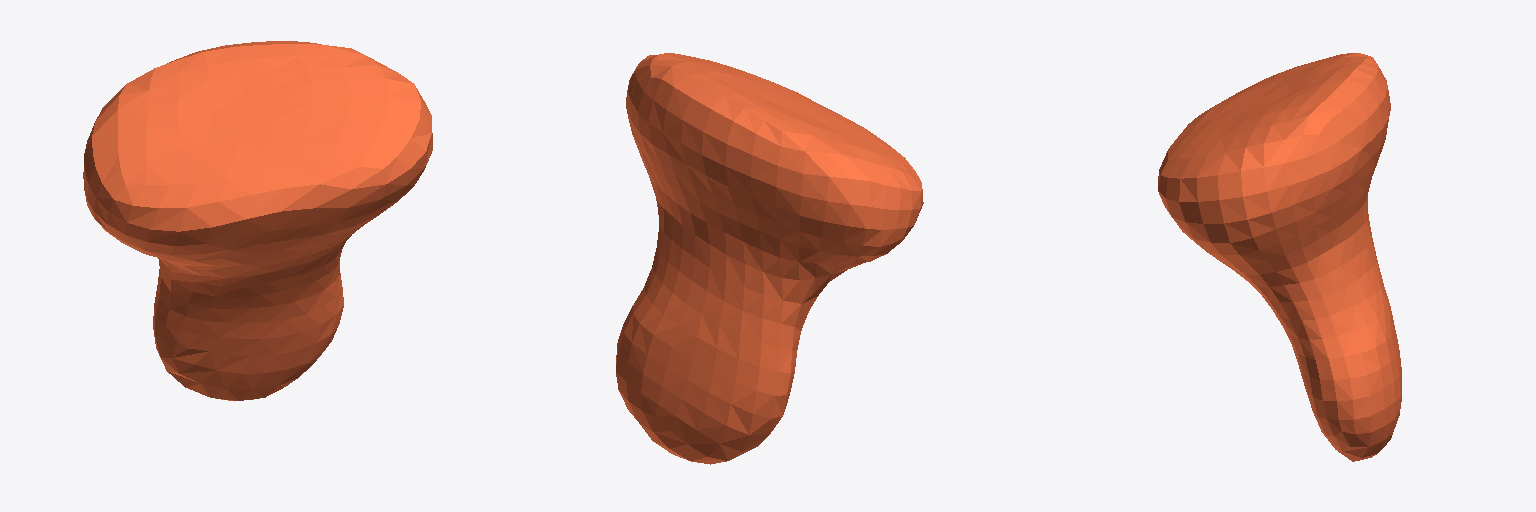
File: DistalPhalanx_5.obj
The picture shows the model from 3 angles: view 1: azimuth 30°, elevation 25°; view 2: azimuth 150°, elevation 25°; view 3: azimuth 270°, elevation 25°; orthographic projection.
Parts seen in each view (by area): view 1: Object_0DistalPhalanx_5; view 2: Object_0DistalPhalanx_5; view 3: Object_0DistalPhalanx_5.
Part boxes in pixels (bbox=[...]): Object_0DistalPhalanx_5: bbox=[83, 41, 432, 400]; Object_0DistalPhalanx_5: bbox=[616, 53, 923, 464]; Object_0DistalPhalanx_5: bbox=[1158, 53, 1401, 461].
Bounding box in the file's own units: 7.26 × 8.33 × 5.06.